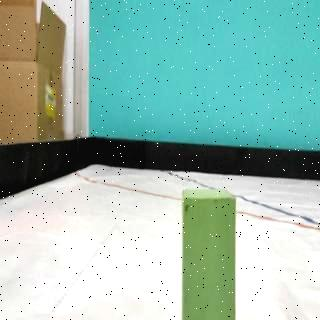greenbox: (180, 187, 237, 320)
